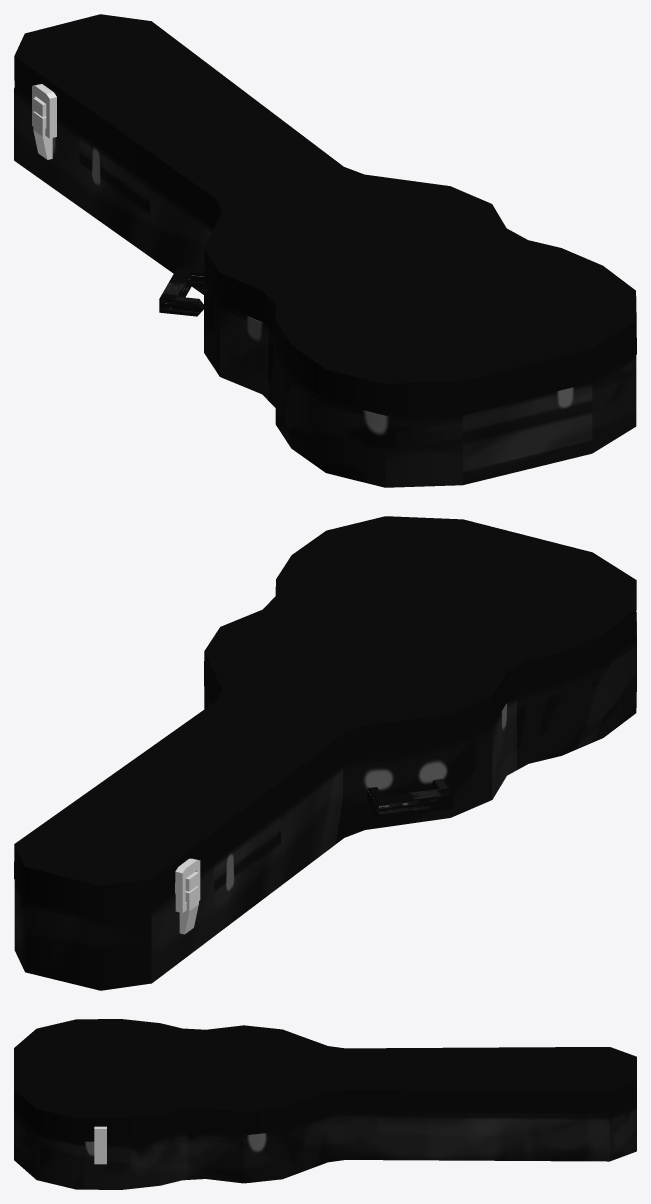
Rendered from obj_GuitarCaseNew.fbx.
3 renders of one model, top to bottom at view 1: azimuth 30°, elevation 25°; view 2: azimuth 150°, elevation 25°; view 3: azimuth 270°, elevation 25°, orthographic. The views are drawn at different scales.
Parts seen in each view (by area): view 1: obj_GuitarCase.004, obj_GuitarCase, obj_GuitarCase.002; view 2: obj_GuitarCase.004, obj_GuitarCase, obj_GuitarCase.002; view 3: obj_GuitarCase.004, obj_GuitarCase.
Part boxes in pixels (x1,y1,x2,y2): obj_GuitarCase.004: (14, 14, 636, 415); obj_GuitarCase: (14, 88, 636, 487); obj_GuitarCase.002: (32, 84, 56, 159); obj_GuitarCase.004: (14, 516, 636, 918); obj_GuitarCase: (14, 612, 636, 990); obj_GuitarCase.002: (175, 858, 200, 934); obj_GuitarCase.004: (14, 1019, 636, 1141); obj_GuitarCase: (14, 1104, 636, 1189).
Size of the model in its own units: 0.4079 by 0.1307 by 1.03.
Materials: 2 (1 with a texture image).
